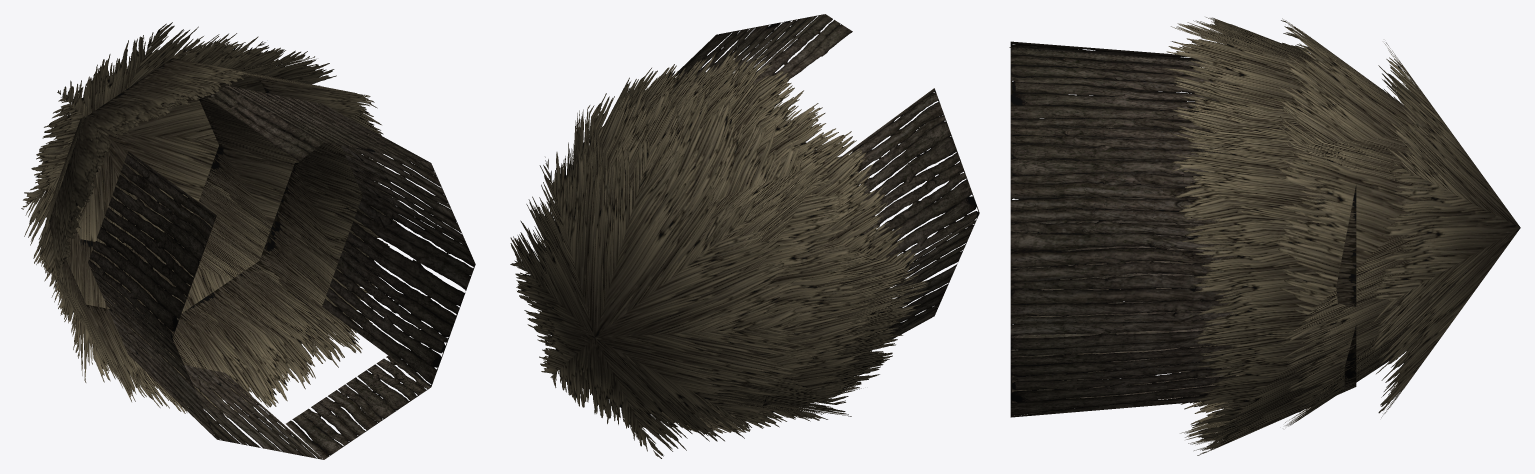
Rendered from MEP_Shack_06_LOD_02.fbx.
3 views of the same model, side by side, from view 1: azimuth 30°, elevation 25°; view 2: azimuth 150°, elevation 25°; view 3: azimuth 270°, elevation 25° (orthographic). The views are drawn at different scales.
Visible parts, largest first — view 1: MEP_Shack_06_LOD_02; view 2: MEP_Shack_06_LOD_02; view 3: MEP_Shack_06_LOD_02.
Part boxes in pixels (box(x1,y1,x2,y2)): MEP_Shack_06_LOD_02: box(21, 22, 475, 459); MEP_Shack_06_LOD_02: box(510, 14, 979, 458); MEP_Shack_06_LOD_02: box(1009, 17, 1520, 455).
Bounding box in the file's own units: 6.68 × 6.5 × 7.35.
